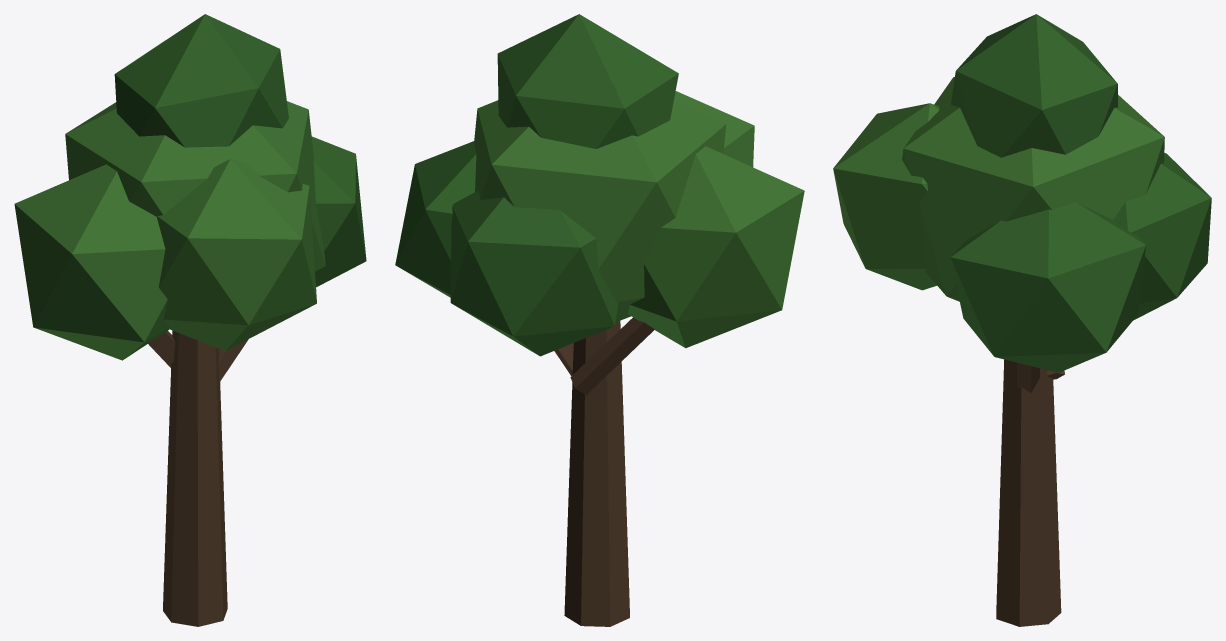
The model's file is LeafyTree.glb.
3 views of the same model, side by side, from view 1: azimuth 30°, elevation 25°; view 2: azimuth 150°, elevation 25°; view 3: azimuth 270°, elevation 25° (orthographic). The views are drawn at different scales.
Parts seen in each view (by area): view 1: LeafyTree; view 2: LeafyTree; view 3: LeafyTree.
Boxes of the visible parts, x1=… form: LeafyTree: x1=14, y1=14, x2=366, y2=626; LeafyTree: x1=395, y1=14, x2=804, y2=626; LeafyTree: x1=833, y1=14, x2=1211, y2=626.
Bounding box in the file's own units: 9.49 × 15.67 × 8.88.
